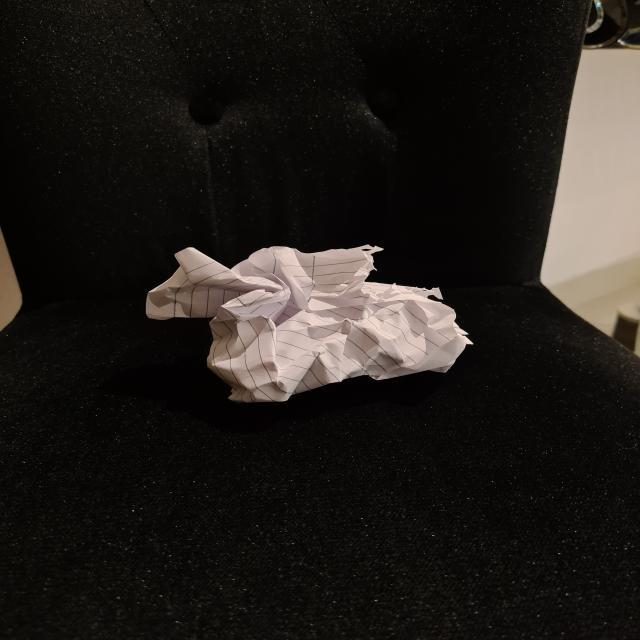Paper: (148, 243, 470, 395)
